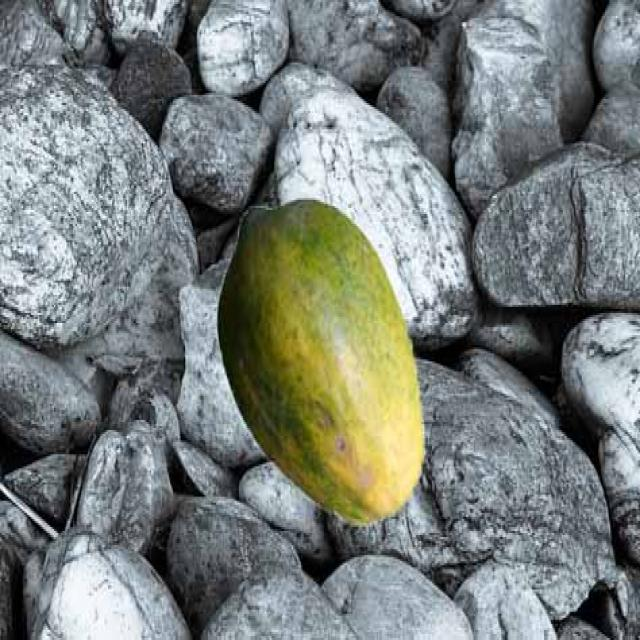Pepaya rippen: (207, 178, 430, 527)
